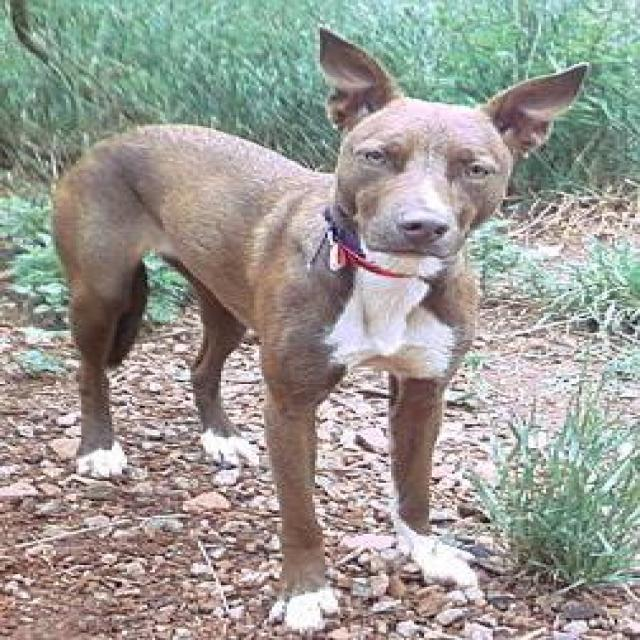dog: (43, 23, 589, 632)
